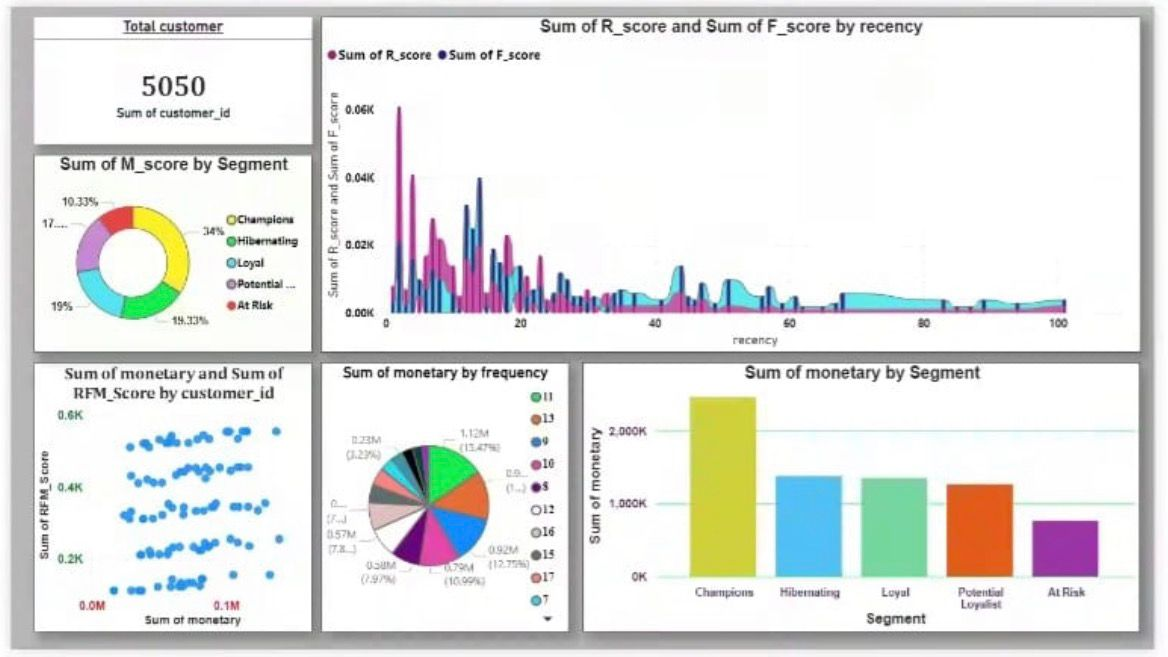

What the dashboard file says about the page in this screenshot:
{"tool":"powerbi","page":{"name":"Page 2","canvas":[1280,720],"ordinal":0},"visuals":[{"type":"scatterChart","fields":{"Category":["rfm_analysis_results.customer_id"],"X":["Sum(rfm_analysis_results.monetary)"],"Y":["Sum(rfm_analysis_results.RFM_Score)"]},"box":[25.7,398.6,311.4,301.4],"z":0},{"type":"card","title":"Total customer","fields":{"Values":["Sum(rfm_analysis_results.customer_id)"]},"box":[25.7,11.4,311.4,142.9],"z":1000},{"type":"donutChart","fields":{"Category":["rfm_analysis_results.Segment"],"Y":["Sum(rfm_analysis_results.M_score)"]},"box":[25.7,165.7,311.4,221.4],"z":2000},{"type":"ribbonChart","fields":{"Y":["Sum(rfm_analysis_results.R_score)","Sum(rfm_analysis_results.F_score)"],"Category":["rfm_analysis_results.recency"]},"box":[346.2,10.9,916.9,376.4],"z":3000},{"type":"pieChart","fields":{"Category":["rfm_analysis_results.frequency"],"Y":["Sum(rfm_analysis_results.monetary)"]},"box":[347.1,398.6,277.1,301.4],"z":4000},{"type":"columnChart","fields":{"Y":["Sum(rfm_analysis_results.monetary)"],"Category":["rfm_analysis_results.Segment"]},"box":[640,398.6,624.3,301.4],"z":5000}]}

Visuals, with their boxes in screenshot pixels (x1, y1, x2, y2), scaled from the page's 1280x720 canvas onto the 1168x657 screenshot:
scatterChart - rfm_analysis_results.customer_id x Sum(rfm_analysis_results.monetary): 23/364/308/639
"Total customer" card: 23/10/308/141
donutChart - rfm_analysis_results.Segment x Sum(rfm_analysis_results.M_score): 23/151/308/353
ribbonChart - Sum(rfm_analysis_results.R_score) x Sum(rfm_analysis_results.F_score): 316/10/1153/353
pieChart - rfm_analysis_results.frequency x Sum(rfm_analysis_results.monetary): 317/364/570/639
columnChart - Sum(rfm_analysis_results.monetary) x rfm_analysis_results.Segment: 584/364/1154/639
